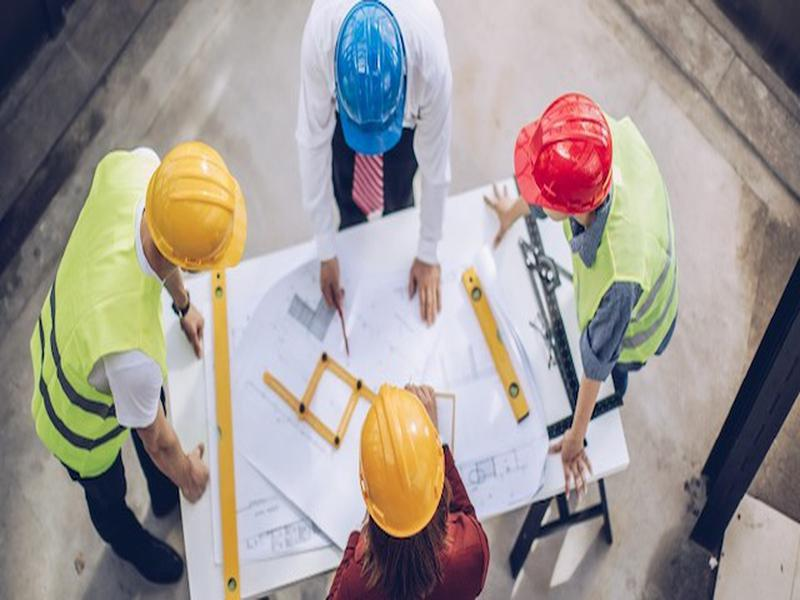hard-hat: (141, 139, 251, 274), (356, 380, 447, 541), (512, 92, 618, 214), (332, 1, 410, 155)
